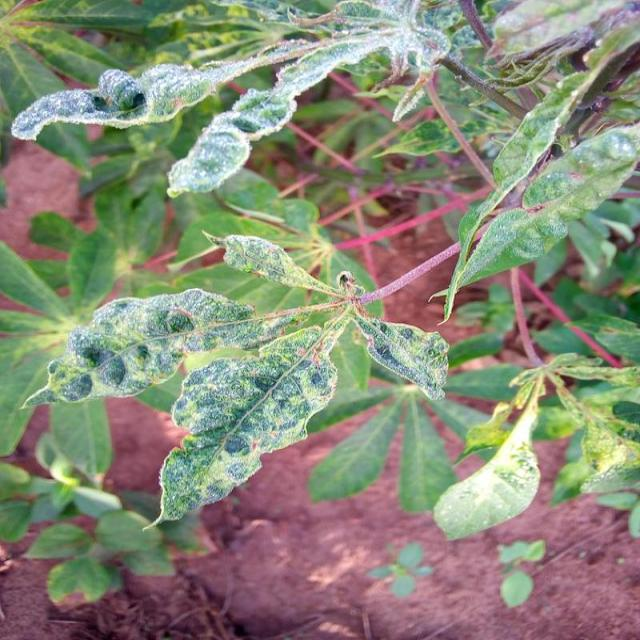cassava leaf: (21, 286, 340, 531)
